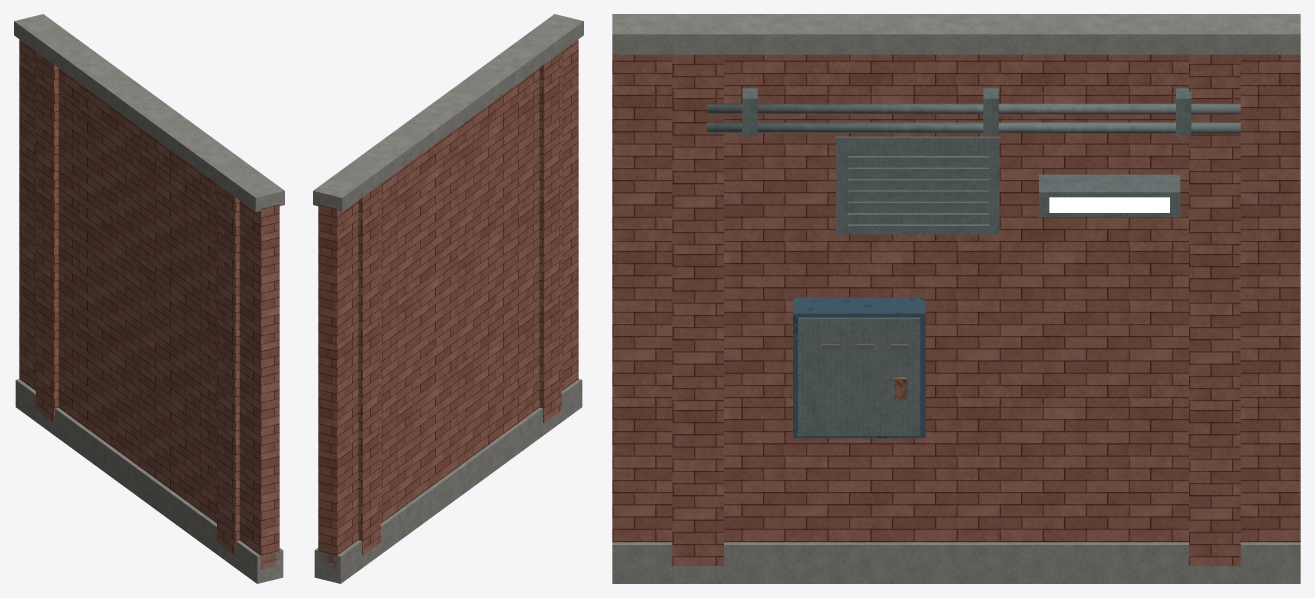
File: PZ_Alley_Wall_Utilities_4M.glb
3 views of the same model, side by side, from view 1: azimuth 30°, elevation 25°; view 2: azimuth 150°, elevation 25°; view 3: azimuth 270°, elevation 25° (orthographic). The views are drawn at different scales.
Parts seen in each view (by area): view 1: UtilitiesWall_BrickWall_Main, UtilitiesWall_Coping, UtilitiesWall_ReinforcedPier_1, UtilitiesWall_ReinforcedPier_2, UtilitiesWall_Footing; view 2: UtilitiesWall_BrickWall_Main, UtilitiesWall_Coping, UtilitiesWall_ReinforcedPier_2, UtilitiesWall_ReinforcedPier_1, UtilitiesWall_Footing; view 3: UtilitiesWall_BrickWall_Main, UtilitiesWall_Coping, UtilitiesWall_Footing, UtilitiesWall_ReinforcedPier_1, UtilitiesWall_ReinforcedPier_2, Utilities_CabinetDoor, UtilitiesWall_VentFrame, Utilities_CableConduit_283, Utilities_CableConduit_295, Utilities_ElectricalCabinet, Utilities_LampHousing, Utilities_LampLens (+2 smaller).
Part boxes in pixels (box(x1,y1,x2,y2)): UtilitiesWall_BrickWall_Main: box(19, 39, 279, 569); UtilitiesWall_Coping: box(14, 14, 284, 211); UtilitiesWall_ReinforcedPier_1: box(217, 184, 239, 555); UtilitiesWall_ReinforcedPier_2: box(36, 51, 58, 422); UtilitiesWall_Footing: box(15, 379, 283, 583); UtilitiesWall_BrickWall_Main: box(318, 39, 578, 569); UtilitiesWall_Coping: box(313, 14, 583, 211); UtilitiesWall_ReinforcedPier_2: box(358, 184, 380, 555); UtilitiesWall_ReinforcedPier_1: box(539, 51, 561, 422); UtilitiesWall_Footing: box(314, 379, 582, 583); UtilitiesWall_BrickWall_Main: box(612, 54, 1300, 542); UtilitiesWall_Coping: box(612, 14, 1300, 54); UtilitiesWall_Footing: box(612, 542, 1300, 583); UtilitiesWall_ReinforcedPier_1: box(672, 54, 723, 565); UtilitiesWall_ReinforcedPier_2: box(1189, 54, 1240, 565); Utilities_CabinetDoor: box(798, 317, 920, 435); UtilitiesWall_VentFrame: box(836, 136, 999, 234); Utilities_CableConduit_283: box(707, 122, 1240, 133); Utilities_CableConduit_295: box(707, 103, 1240, 114); Utilities_ElectricalCabinet: box(793, 297, 925, 438); Utilities_LampHousing: box(1039, 174, 1180, 217); Utilities_LampLens: box(1049, 197, 1169, 212).
Size of the model in its own units: 0.539 by 3.53 by 4.
7 materials, 5 textured.
